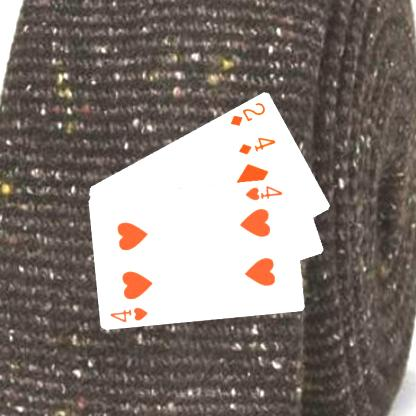2D: (228, 99, 267, 127)
4D: (236, 134, 277, 156)
4H: (108, 304, 150, 324), (242, 183, 284, 202)
